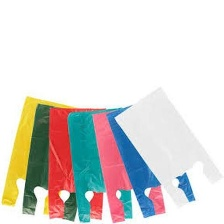plastic_bag: (110, 83, 224, 210), (103, 100, 203, 219), (88, 105, 170, 223), (0, 95, 78, 219), (18, 102, 90, 224), (64, 103, 134, 224), (44, 103, 112, 223)
